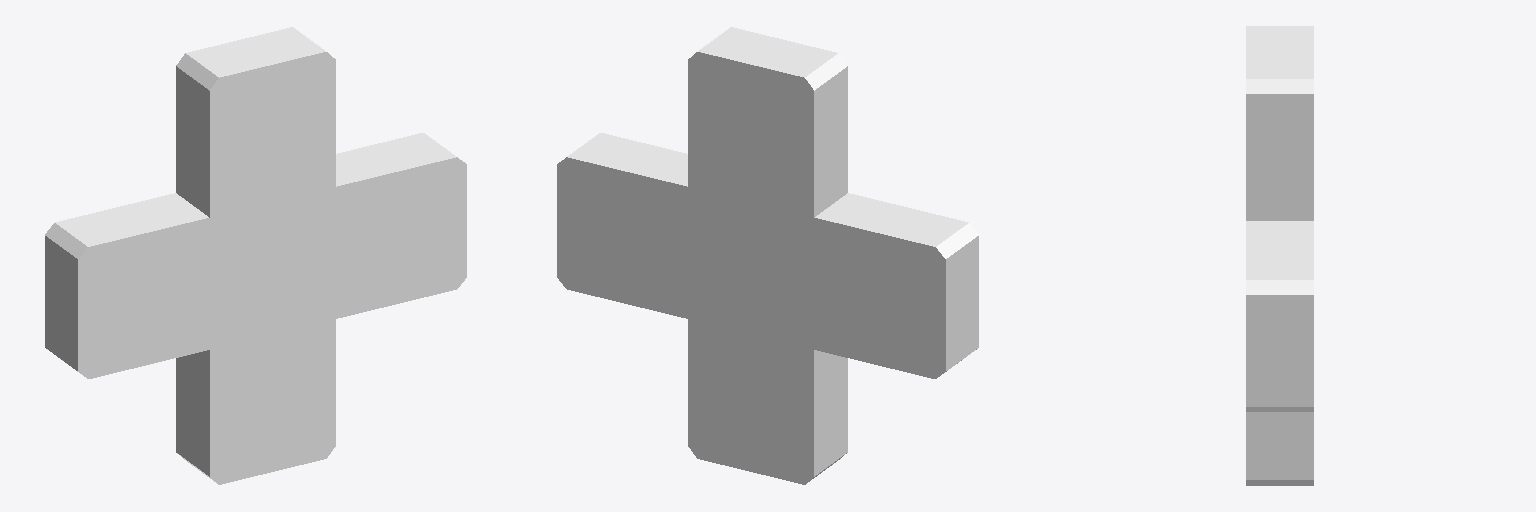
The model's file is SciFi_Icon_Health.obj.
3 views of the same model, side by side, from view 1: azimuth 30°, elevation 25°; view 2: azimuth 150°, elevation 25°; view 3: azimuth 270°, elevation 25° (orthographic).
Visible parts, largest first — view 1: SM_Icon_Health; view 2: SM_Icon_Health; view 3: SM_Icon_Health.
Part boxes in pixels (bbox=[...]): SM_Icon_Health: bbox=[45, 27, 466, 484]; SM_Icon_Health: bbox=[557, 27, 978, 484]; SM_Icon_Health: bbox=[1246, 26, 1313, 485].
Bounding box in the file's own units: 1 × 1 × 0.15.